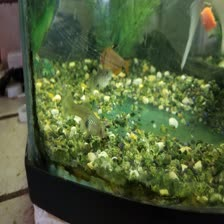Guppy: (59, 95, 112, 141), (79, 70, 118, 91)
Plano: (196, 2, 218, 34)
Transparente: (96, 42, 131, 74)
